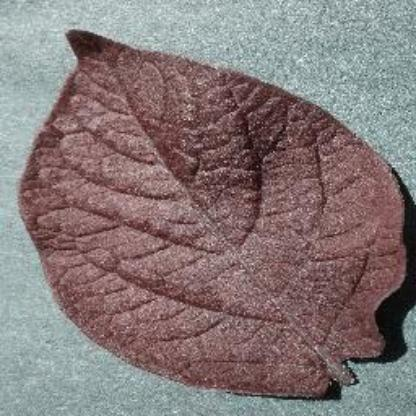Healthy-plant: (28, 19, 416, 406)
